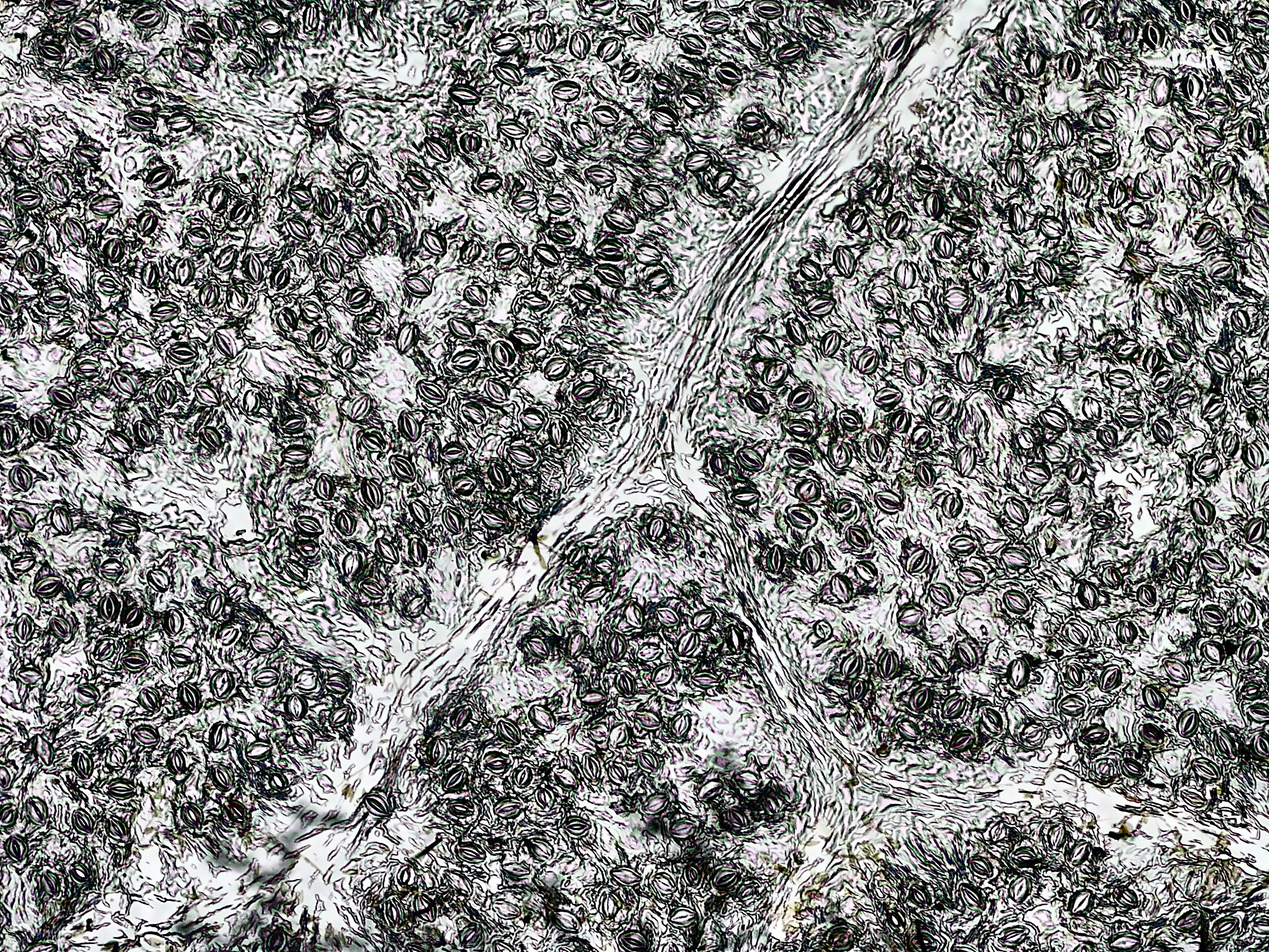stomata: (822, 923, 858, 952), (1123, 247, 1158, 274), (62, 216, 90, 248), (827, 440, 854, 472), (1161, 655, 1190, 684), (129, 5, 164, 29), (305, 102, 340, 126), (1004, 279, 1031, 310), (786, 503, 818, 529), (551, 907, 583, 933), (165, 341, 201, 364), (805, 293, 838, 318), (593, 263, 627, 287), (760, 359, 789, 387), (529, 703, 557, 732), (442, 867, 470, 896), (1001, 545, 1032, 571), (1190, 756, 1221, 782), (1240, 116, 1263, 151), (209, 668, 234, 700), (396, 321, 420, 354), (112, 370, 140, 398), (1099, 57, 1122, 91), (1151, 74, 1174, 108), (1144, 126, 1174, 152), (104, 428, 135, 453), (885, 30, 910, 61), (103, 777, 138, 799), (957, 350, 979, 385), (214, 327, 238, 359), (120, 649, 152, 673), (178, 681, 202, 713), (593, 238, 626, 261), (383, 896, 406, 929), (877, 648, 900, 681), (628, 10, 655, 38), (424, 134, 451, 162), (488, 462, 516, 489), (960, 884, 987, 912), (6, 134, 35, 160), (144, 165, 173, 191), (47, 616, 73, 645), (493, 61, 522, 87), (45, 316, 75, 341), (745, 20, 770, 50), (865, 434, 890, 464), (33, 732, 55, 766), (447, 84, 481, 106), (322, 250, 344, 284), (570, 284, 604, 306), (106, 813, 130, 844), (489, 30, 520, 54), (584, 164, 615, 188), (416, 379, 447, 403), (604, 209, 635, 233), (1194, 125, 1225, 149), (833, 246, 857, 277), (413, 892, 437, 923), (1238, 635, 1262, 666), (90, 194, 122, 217), (87, 315, 119, 338), (497, 117, 529, 140), (507, 443, 539, 466), (1058, 49, 1081, 81), (871, 386, 903, 409), (606, 632, 629, 664), (389, 453, 416, 480), (374, 537, 400, 565), (885, 212, 911, 240), (910, 300, 936, 328), (735, 446, 763, 472), (1003, 497, 1029, 525), (70, 144, 103, 166), (547, 416, 569, 449), (454, 841, 487, 863), (26, 797, 51, 826), (346, 392, 371, 421), (941, 690, 966, 719), (13, 186, 43, 210), (894, 260, 918, 290), (785, 446, 815, 470), (874, 489, 904, 513), (829, 574, 853, 604), (13, 614, 36, 645), (97, 592, 120, 623), (776, 41, 807, 64), (570, 381, 601, 404), (1004, 157, 1027, 188), (1007, 658, 1030, 689), (209, 721, 231, 753), (535, 23, 557, 55), (482, 752, 514, 774), (1057, 694, 1089, 716), (1207, 346, 1232, 374), (1038, 407, 1066, 432), (1008, 876, 1033, 904), (1070, 889, 1095, 917), (194, 382, 223, 406), (281, 442, 310, 466), (47, 385, 76, 409), (71, 808, 95, 837), (1034, 257, 1058, 286), (493, 796, 522, 820), (124, 111, 157, 132), (33, 574, 63, 597), (130, 724, 160, 747), (532, 243, 562, 266), (785, 416, 815, 439), (801, 546, 824, 576), (1176, 707, 1199, 737), (150, 300, 181, 322), (361, 477, 383, 508), (619, 930, 650, 952), (956, 444, 976, 478), (197, 426, 223, 452), (571, 121, 597, 147), (285, 216, 311, 242), (643, 183, 670, 208), (339, 233, 366, 258), (485, 376, 510, 403), (904, 549, 931, 574), (134, 419, 158, 447), (108, 516, 140, 537), (714, 61, 742, 85), (287, 184, 315, 208), (403, 274, 431, 298), (401, 595, 429, 619), (1052, 116, 1073, 148), (1003, 589, 1031, 613), (1097, 664, 1121, 692), (1174, 910, 1202, 934), (51, 505, 74, 534), (679, 32, 708, 55), (625, 131, 654, 154), (440, 505, 463, 534), (335, 507, 358, 536), (563, 816, 592, 839), (493, 898, 522, 921), (1192, 497, 1215, 526), (1046, 822, 1069, 851), (174, 256, 196, 286), (162, 608, 184, 638), (650, 106, 680, 128), (296, 374, 326, 396), (439, 442, 469, 464), (446, 317, 476, 339), (622, 598, 644, 628), (1236, 598, 1258, 628), (1109, 932, 1142, 952), (71, 358, 102, 379), (787, 316, 808, 347), (610, 865, 641, 886), (257, 13, 283, 38), (421, 229, 447, 254), (788, 387, 813, 413), (929, 395, 955, 420), (795, 477, 821, 502), (497, 719, 522, 745), (135, 210, 159, 237), (345, 286, 372, 310), (264, 925, 288, 952), (1243, 47, 1267, 74), (590, 395, 614, 422), (523, 636, 550, 660), (982, 707, 1006, 734), (206, 185, 229, 213), (285, 693, 308, 721), (932, 231, 955, 259), (915, 461, 938, 489), (1024, 462, 1052, 485), (670, 712, 693, 740), (318, 188, 338, 220), (68, 19, 97, 41), (701, 11, 730, 33), (367, 206, 389, 235), (249, 631, 278, 653), (553, 767, 582, 789), (48, 170, 69, 200), (243, 252, 264, 282), (408, 537, 429, 567), (579, 582, 609, 603), (1000, 925, 1030, 946), (498, 860, 531, 879), (596, 36, 621, 61), (898, 604, 923, 629), (75, 681, 101, 705), (103, 745, 127, 771), (1210, 20, 1234, 46), (654, 604, 680, 628), (847, 524, 871, 550), (216, 245, 239, 272), (166, 748, 189, 775), (314, 473, 337, 500), (210, 763, 233, 790), (452, 349, 479, 372), (554, 332, 581, 355), (1092, 107, 1119, 130), (1134, 173, 1157, 200), (819, 330, 842, 357), (903, 358, 926, 385), (615, 672, 638, 699), (1201, 549, 1228, 572), (752, 0, 783, 20), (399, 410, 419, 441), (725, 624, 745, 655), (185, 20, 213, 42), (182, 47, 210, 69), (155, 380, 177, 408), (801, 14, 829, 36), (403, 170, 431, 192), (358, 430, 386, 452), (181, 801, 203, 829), (492, 339, 514, 367), (1016, 126, 1038, 154), (857, 348, 879, 376), (510, 327, 539, 348), (942, 491, 963, 520), (668, 906, 697, 927), (551, 80, 581, 100), (294, 667, 318, 692), (223, 799, 247, 824), (544, 356, 569, 380), (1209, 258, 1234, 282), (565, 629, 585, 659), (448, 706, 473, 730), (668, 819, 698, 839), (1194, 453, 1219, 477), (1077, 581, 1097, 611), (1213, 917, 1238, 941), (44, 287, 70, 310), (346, 161, 369, 187), (494, 241, 520, 264), (745, 390, 768, 416), (677, 630, 700, 656), (840, 652, 863, 678), (93, 47, 115, 74), (102, 237, 124, 264), (337, 344, 359, 371), (1080, 1, 1102, 28), (1010, 202, 1028, 235), (943, 289, 970, 311), (1108, 368, 1135, 390), (0, 421, 19, 452), (1071, 166, 1090, 197), (909, 933, 940, 952), (252, 667, 280, 688), (1024, 49, 1045, 77), (1229, 307, 1250, 335), (1153, 417, 1174, 445), (950, 535, 978, 556), (535, 784, 556, 812), (640, 792, 668, 813), (955, 641, 976, 669), (73, 751, 93, 780), (294, 516, 323, 536), (950, 214, 979, 234), (608, 720, 628, 749), (582, 753, 602, 782), (27, 416, 51, 440), (1201, 602, 1225, 626), (10, 466, 33, 491), (9, 508, 34, 531), (120, 604, 143, 629), (636, 242, 661, 265), (464, 284, 489, 307), (844, 208, 867, 233), (1040, 216, 1065, 239), (968, 257, 991, 282), (754, 336, 779, 359), (1168, 338, 1193, 361), (458, 924, 481, 949), (24, 248, 46, 274), (97, 274, 123, 296), (281, 412, 307, 434), (139, 686, 161, 712), (682, 87, 708, 109), (531, 145, 557, 167), (592, 104, 618, 126), (276, 306, 298, 332), (1247, 203, 1269, 229), (363, 795, 389, 817), (441, 770, 467, 792), (928, 652, 950, 678), (949, 731, 975, 753), (1202, 640, 1224, 666), (570, 30, 589, 60), (1146, 21, 1165, 51), (1108, 178, 1127, 208), (874, 318, 904, 337), (635, 642, 665, 661), (409, 499, 430, 526), (342, 551, 363, 578), (446, 798, 473, 819), (1243, 442, 1264, 469), (1142, 684, 1163, 711), (242, 388, 262, 416), (17, 665, 45, 685), (7, 834, 27, 862), (738, 111, 766, 131), (1163, 289, 1183, 317), (1117, 406, 1145, 426), (634, 709, 662, 729), (600, 892, 620, 920), (957, 565, 985, 585), (766, 544, 784, 575), (75, 574, 99, 597), (148, 568, 171, 592), (284, 559, 308, 582), (1125, 203, 1148, 227), (1194, 223, 1217, 247), (1245, 377, 1269, 400), (692, 608, 716, 631), (698, 778, 722, 801), (725, 805, 748, 829), (1141, 723, 1165, 746), (923, 191, 942, 220), (1216, 731, 1235, 760), (38, 871, 60, 896), (619, 60, 641, 85), (685, 150, 710, 172), (358, 314, 383, 336), (460, 130, 482, 155), (547, 193, 572, 215), (869, 287, 894, 309), (1116, 620, 1138, 645), (1120, 757, 1145, 779), (967, 854, 992, 876), (58, 420, 79, 446), (325, 673, 351, 694), (459, 238, 480, 264), (1212, 160, 1233, 186), (891, 408, 912, 434), (652, 660, 673, 686), (428, 739, 449, 765), (713, 867, 739, 888), (1246, 518, 1267, 544), (1181, 786, 1207, 807), (1070, 840, 1091, 866), (131, 86, 158, 106), (218, 11, 238, 38), (186, 227, 213, 247), (730, 488, 760, 506), (1143, 347, 1163, 374), (1099, 423, 1119, 450), (692, 670, 719, 690), (1011, 847, 1038, 867), (166, 113, 194, 132), (206, 592, 225, 620), (270, 263, 289, 291), (1182, 71, 1201, 99), (580, 688, 608, 707), (239, 46, 262, 69), (100, 557, 123, 580), (840, 409, 863, 432), (930, 583, 953, 606), (513, 191, 537, 213), (1191, 282, 1213, 306), (170, 646, 195, 667), (310, 326, 331, 351), (708, 451, 729, 476), (227, 284, 247, 310), (463, 403, 489, 423), (645, 270, 671, 290), (519, 408, 545, 428), (910, 686, 930, 712), (897, 720, 923, 740), (522, 290, 549, 309), (1117, 21, 1136, 48), (1087, 137, 1114, 156), (875, 180, 894, 207), (1222, 429, 1239, 459), (216, 623, 238, 646), (67, 863, 90, 885), (653, 71, 676, 93), (302, 300, 324, 323), (653, 872, 676, 894), (141, 261, 159, 289), (93, 636, 114, 660), (482, 507, 506, 528), (518, 492, 542, 513), (1245, 9, 1269, 30), (835, 496, 856, 520), (528, 838, 552, 859), (908, 883, 929, 907), (1067, 460, 1087, 485), (513, 763, 533, 788), (856, 559, 876, 584), (1170, 558, 1190, 583), (245, 742, 271, 761), (201, 281, 219, 308), (953, 181, 971, 208), (1204, 397, 1226, 419), (1017, 426, 1039, 448), (1226, 78, 1247, 101), (856, 166, 877, 189), (995, 377, 1016, 400), (1082, 395, 1103, 418), (1020, 721, 1043, 742), (1116, 886, 1139, 907), (445, 0, 465, 24), (359, 579, 383, 599), (1003, 82, 1023, 106), (1046, 496, 1070, 516), (609, 761, 629, 785), (1068, 623, 1088, 647), (11, 552, 36, 571), (477, 172, 502, 191), (1114, 338, 1139, 357), (1186, 174, 1204, 200), (1067, 662, 1085, 688), (329, 706, 350, 728), (800, 259, 822, 280), (645, 517, 666, 539), (714, 169, 734, 192), (453, 475, 476, 495), (1136, 584, 1156, 607), (0, 801, 17, 828), (1252, 732, 1269, 759), (231, 201, 250, 225), (736, 770, 760, 789), (41, 42, 66, 60), (294, 539, 319, 557), (1082, 725, 1108, 742), (294, 727, 315, 748), (1248, 702, 1269, 723), (1045, 444, 1067, 464), (1102, 565, 1122, 587), (988, 819, 1008, 841), (1176, 0, 1195, 23), (814, 618, 833, 641), (1090, 511, 1113, 530), (305, 3, 320, 32), (0, 291, 18, 315), (551, 225, 575, 243), (683, 863, 700, 888), (849, 677, 866, 702), (50, 0, 78, 15), (588, 0, 616, 15), (227, 583, 248, 603), (587, 723, 607, 744), (1095, 758, 1116, 778), (1175, 386, 1194, 408), (639, 751, 658, 773), (1206, 93, 1229, 111), (913, 426, 931, 449), (567, 547, 587, 567), (1154, 370, 1173, 391), (397, 865, 415, 887), (1059, 343, 1082, 360), (713, 0, 748, 11), (270, 772, 289, 792), (916, 164, 937, 182), (761, 794, 779, 815), (1253, 913, 1269, 935), (737, 883, 755, 902), (491, 939, 517, 952), (681, 0, 709, 12), (595, 558, 616, 574), (887, 909, 904, 928), (1240, 681, 1260, 697), (0, 766, 11, 791), (0, 216, 14, 235), (277, 0, 298, 10)
